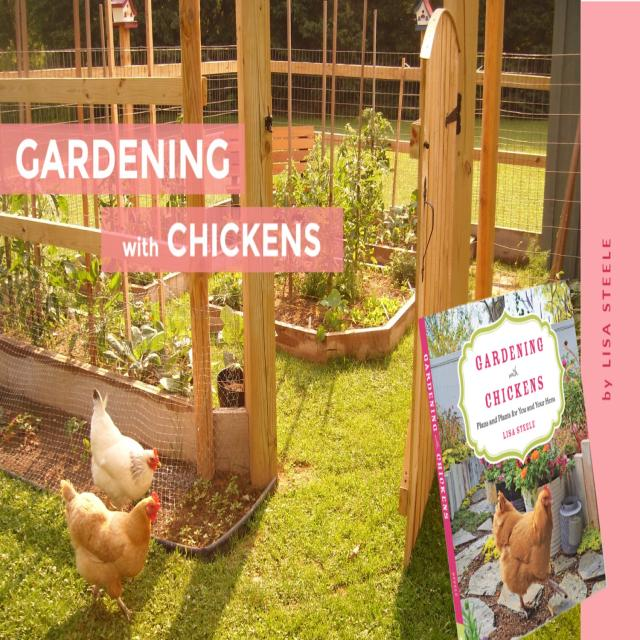chicken: (59, 406, 159, 604), (56, 477, 163, 629), (491, 484, 574, 623), (492, 483, 566, 618), (82, 382, 162, 506)
